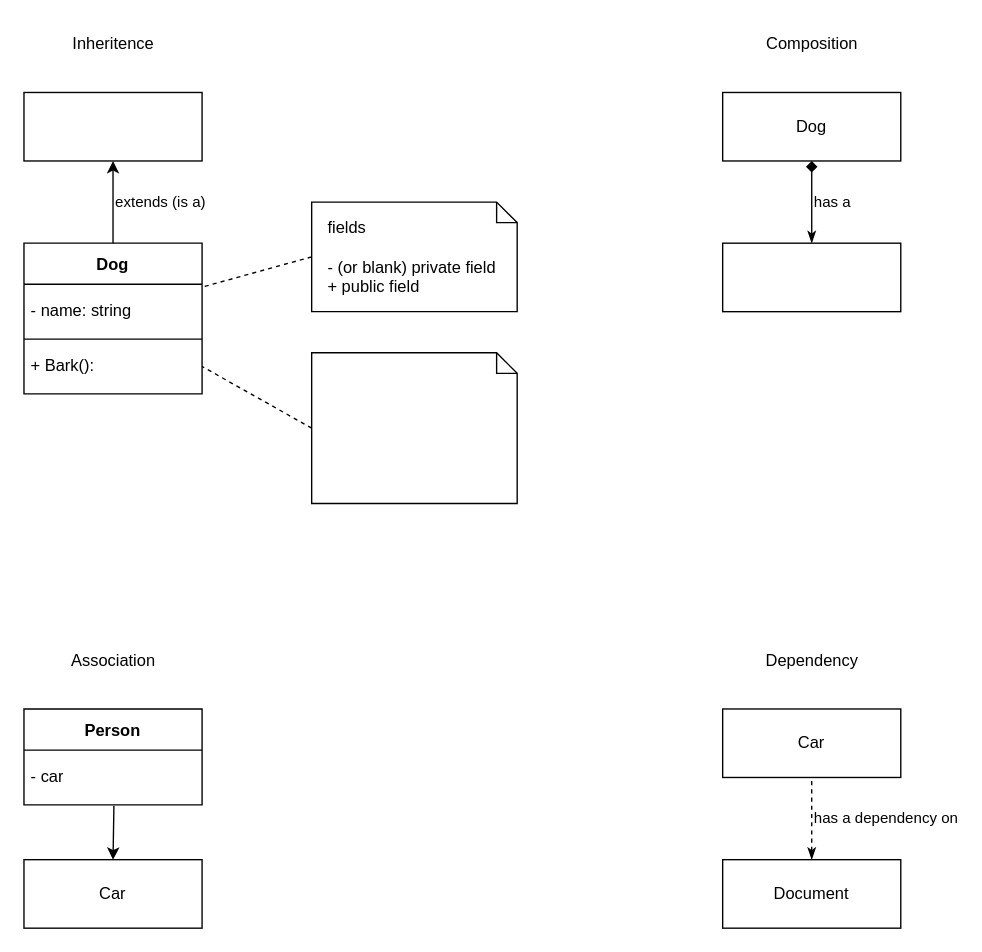
This 982x952 diagram has some shape labels left out. The centre of each missing label's shape, as x and y in pixels:
"Animal" goes at (112,126).
"methods + (or blank) public method. blank after : means void" goes at (413,427).
"Size" goes at (811,277).
